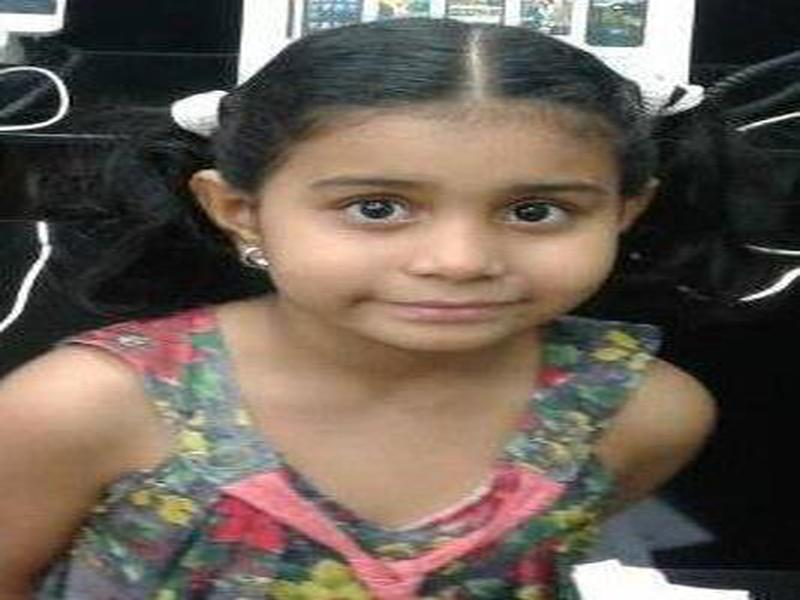without_mask: (263, 104, 614, 353)
